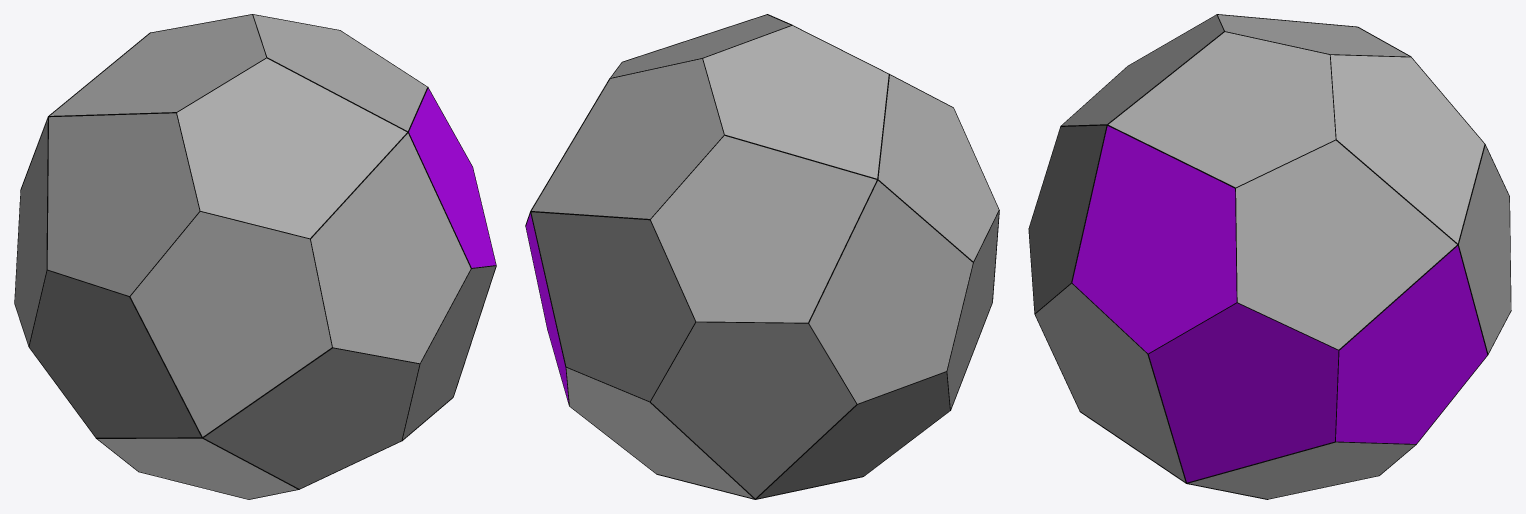
The model's file is PentagonalIcositetrahedron7.glb.
The picture shows the model from 3 angles, left to right: view 1: azimuth 30°, elevation 25°; view 2: azimuth 150°, elevation 25°; view 3: azimuth 270°, elevation 25°; orthographic projection.
Size of the model in its own units: 2.5 by 2.5 by 2.5.
